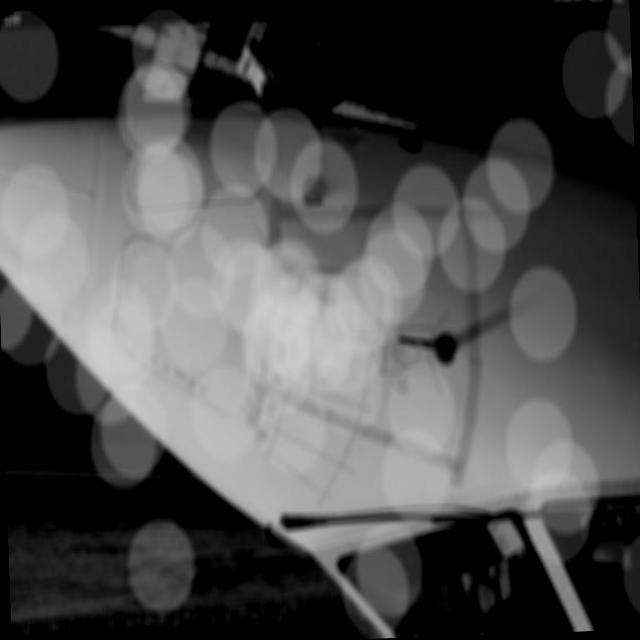dent: (394, 336, 416, 364)
